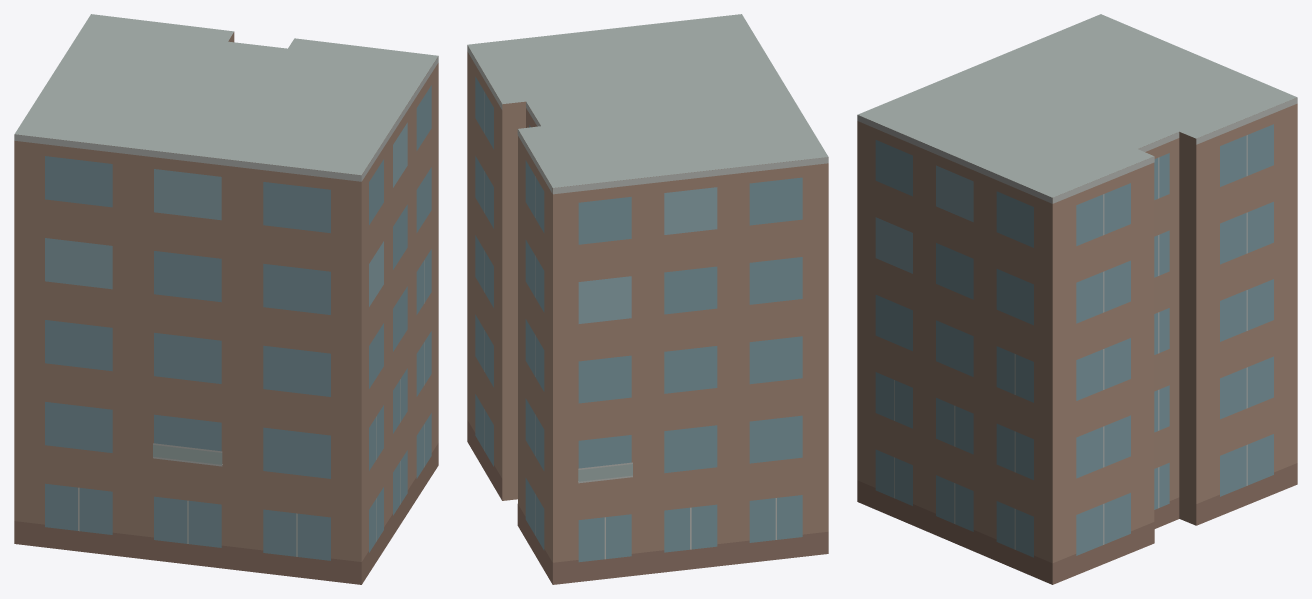
The model's file is survey-upis-32999814.glb.
The picture shows the model from 3 angles, left to right: view 1: azimuth 30°, elevation 25°; view 2: azimuth 150°, elevation 25°; view 3: azimuth 270°, elevation 25°; orthographic projection. The views are drawn at different scales.
Visible parts, largest first — view 1: survey-upis-32999814.tmp; view 2: survey-upis-32999814.tmp; view 3: survey-upis-32999814.tmp.
Boxes of the visible parts, x1=… form: survey-upis-32999814.tmp: x1=14, y1=14, x2=438, y2=584; survey-upis-32999814.tmp: x1=467, y1=14, x2=828, y2=584; survey-upis-32999814.tmp: x1=857, y1=14, x2=1297, y2=584.
Bounding box in the file's own units: 15.66 × 15.37 × 15.85.
